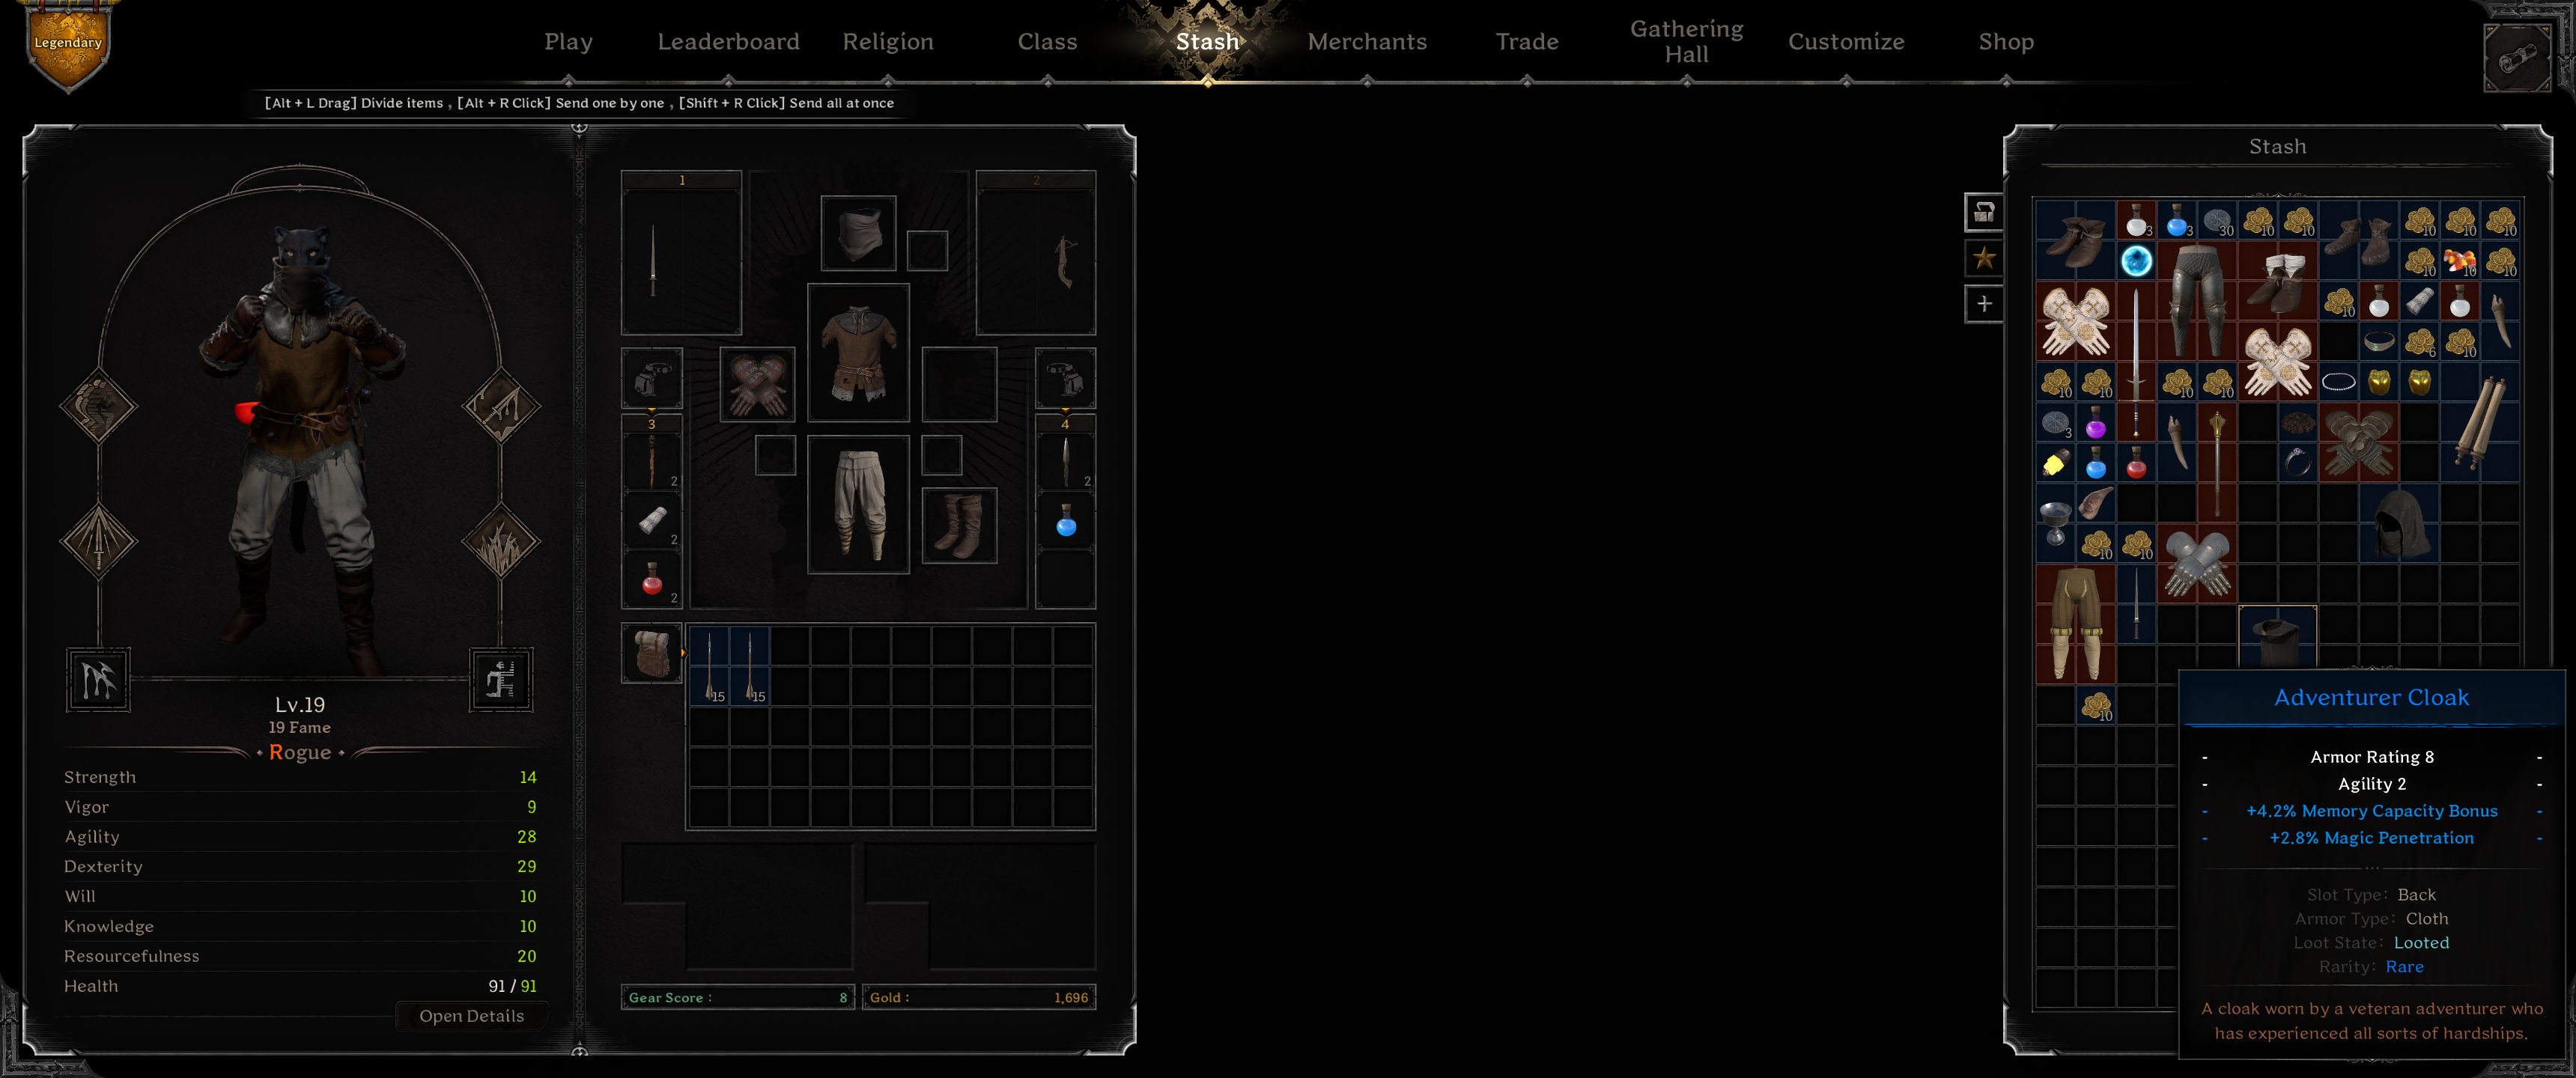Tooltip: (2177, 667, 2568, 1062)
